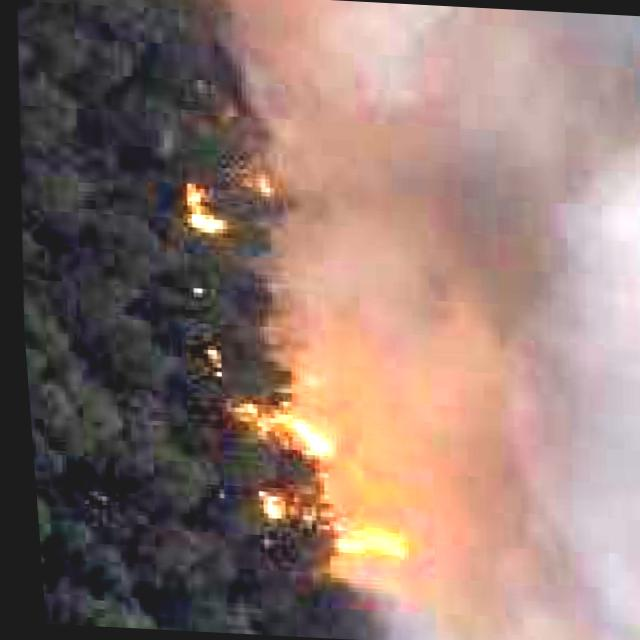fire: (227, 0, 640, 640), (256, 492, 420, 570), (234, 408, 326, 461), (175, 179, 221, 242)
